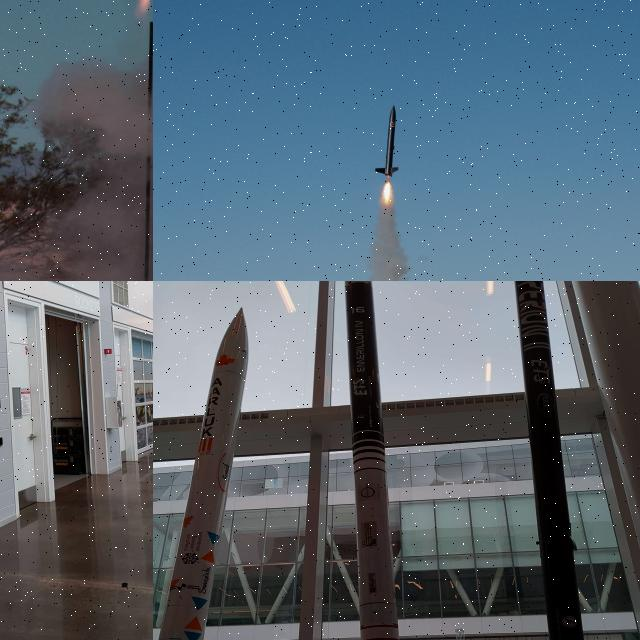Rocket: (158, 307, 249, 640), (514, 281, 584, 640), (345, 281, 400, 640), (376, 104, 400, 178)
